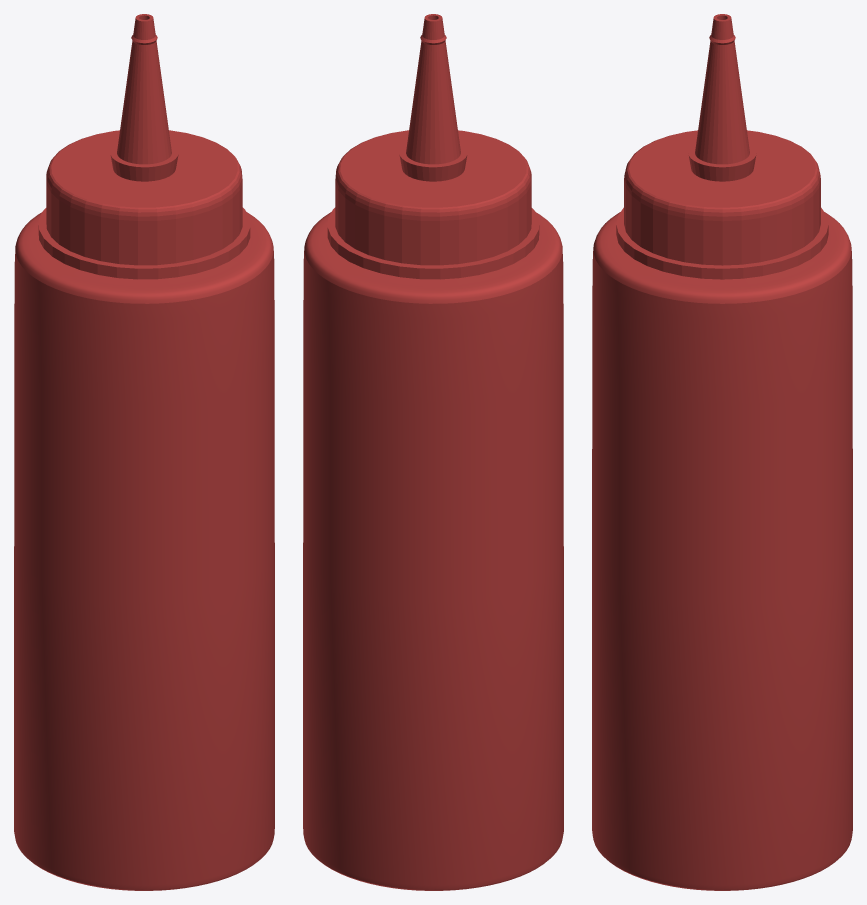
File: bottle.fbx
The picture shows the model from 3 angles, left to right: view 1: azimuth 30°, elevation 25°; view 2: azimuth 150°, elevation 25°; view 3: azimuth 270°, elevation 25°; orthographic projection.
Parts seen in each view (by area): view 1: mustard_bottle; view 2: mustard_bottle; view 3: mustard_bottle.
Part boxes in pixels (x1=…): mustard_bottle: x1=14, y1=14, x2=274, y2=890; mustard_bottle: x1=303, y1=14, x2=563, y2=890; mustard_bottle: x1=592, y1=14, x2=852, y2=890.
Size of the model in its own units: 6.19 by 21.44 by 6.19.
